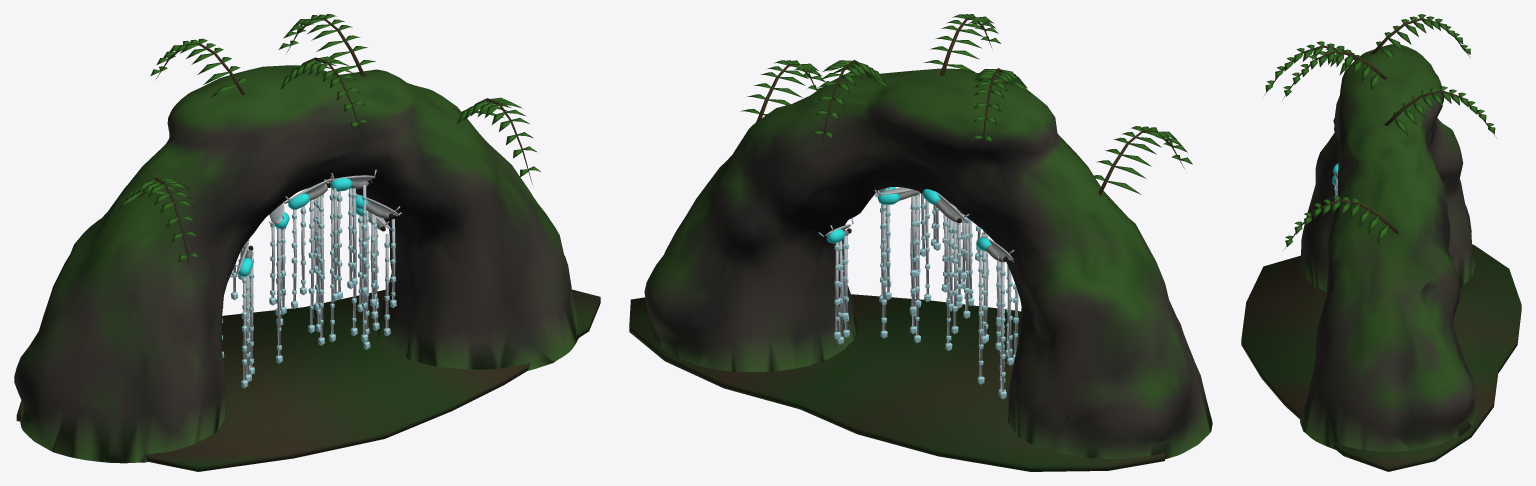
File: NZGlowworm.fbx
The picture shows the model from 3 angles, left to right: view 1: azimuth 30°, elevation 25°; view 2: azimuth 150°, elevation 25°; view 3: azimuth 270°, elevation 25°; orthographic projection. The views are drawn at different scales.
Visible parts, largest first — view 1: NZGlowworm; view 2: NZGlowworm; view 3: NZGlowworm.
Boxes of the visible parts, x1=… form: NZGlowworm: x1=14, y1=14, x2=600, y2=471; NZGlowworm: x1=629, y1=14, x2=1212, y2=471; NZGlowworm: x1=1241, y1=14, x2=1521, y2=471.
Bounding box in the file's own units: 2.24 × 1.28 × 1.11.
